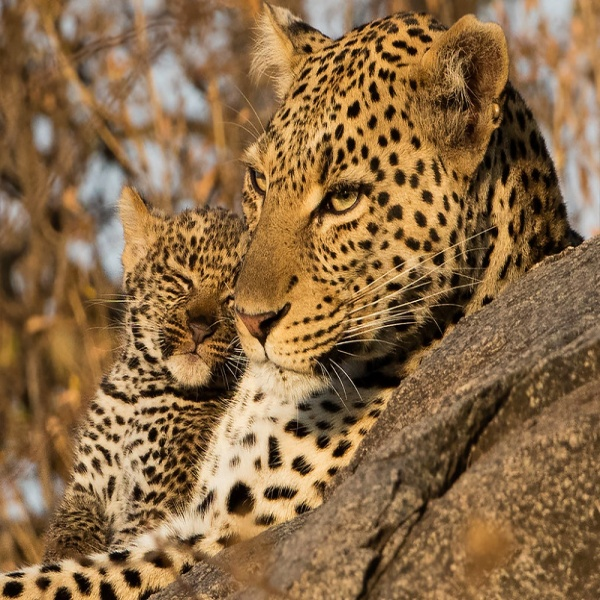Leopard: (212, 5, 571, 538), (54, 188, 248, 565)
